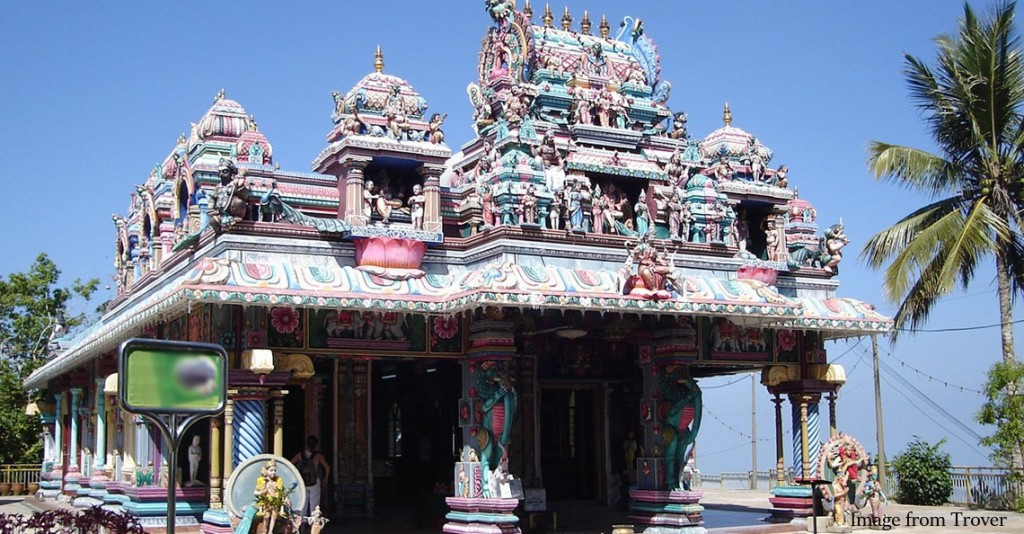Hindu Temple: (90, 13, 871, 509)
